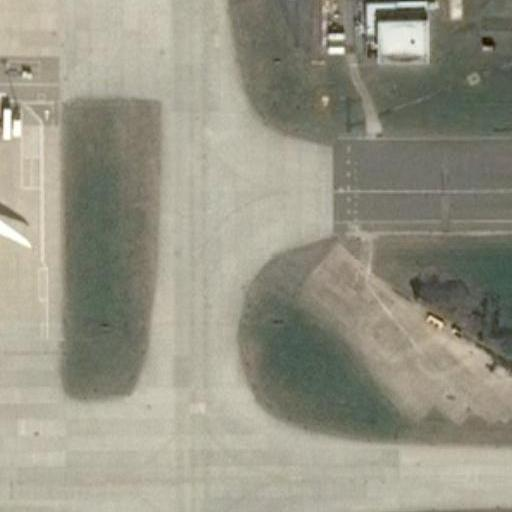Aircraft: (0, 122, 39, 312), (0, 0, 49, 45)
